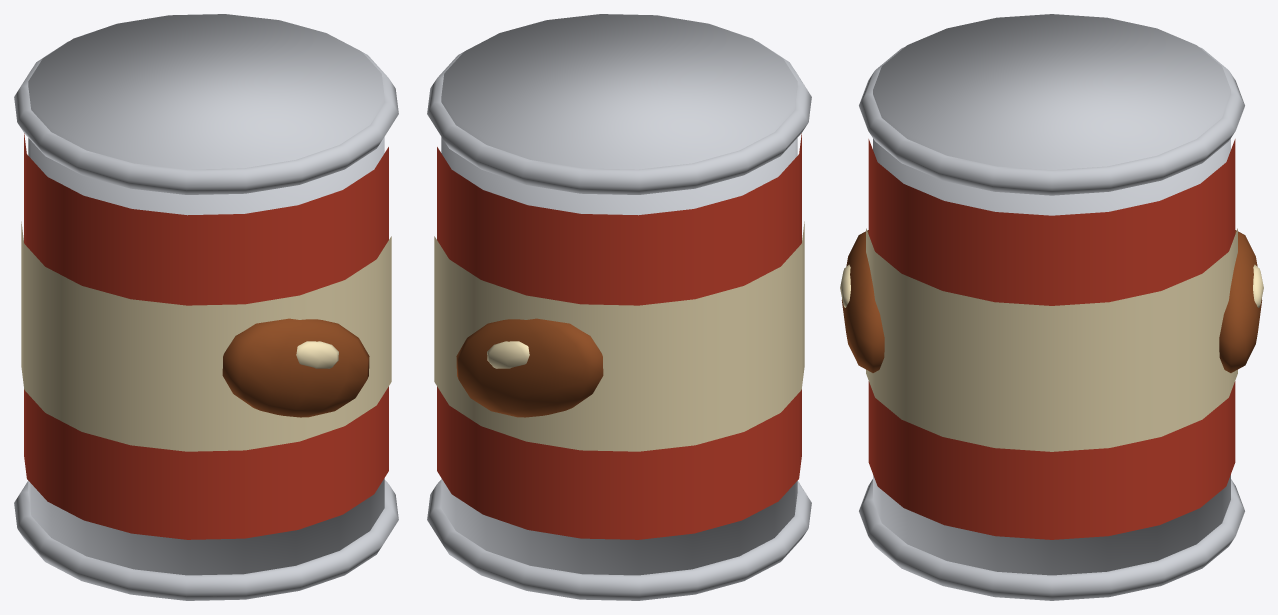
The model's file is beans.glb.
3 renders of one model, left to right at view 1: azimuth 30°, elevation 25°; view 2: azimuth 150°, elevation 25°; view 3: azimuth 270°, elevation 25°, orthographic.
Parts seen in each view (by area): view 1: beans_mesh; view 2: beans_mesh; view 3: beans_mesh.
Part boxes in pixels (bbox=[...]): beans_mesh: bbox=[14, 14, 398, 600]; beans_mesh: bbox=[427, 14, 811, 600]; beans_mesh: bbox=[840, 14, 1263, 600].
Size of the model in its own units: 0.432 by 0.5339 by 0.474.
